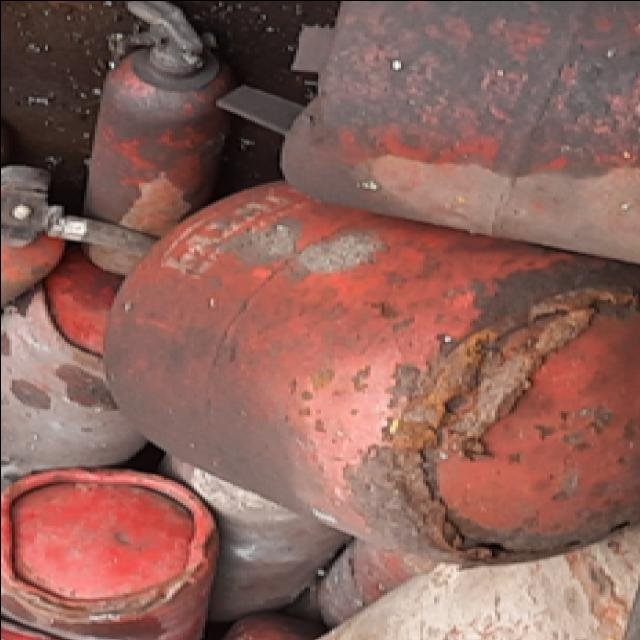cylinder: (3, 465, 219, 638), (84, 2, 228, 237)
